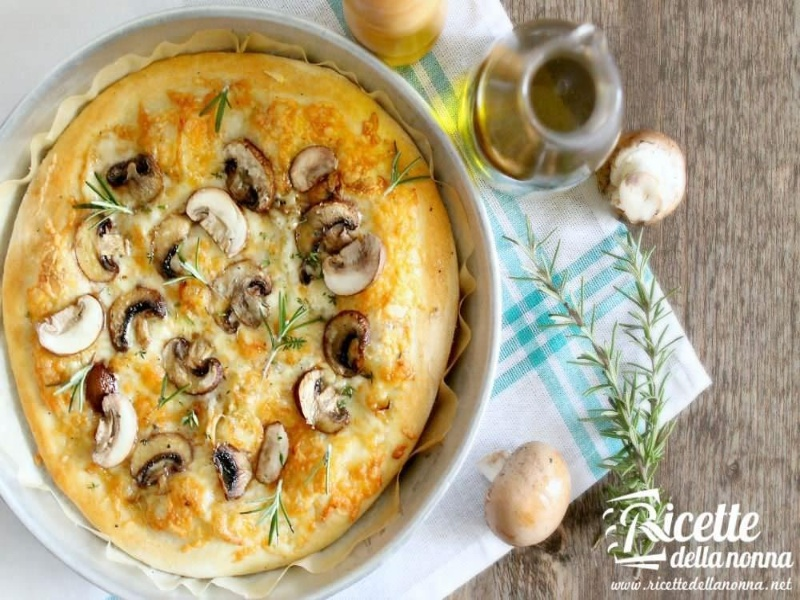champignon: (217, 135, 293, 216), (204, 256, 277, 337), (181, 181, 252, 263), (287, 366, 364, 441), (319, 225, 388, 305), (157, 333, 234, 401), (30, 291, 109, 356), (128, 432, 204, 494), (88, 389, 142, 475), (99, 151, 175, 211), (321, 304, 380, 380), (71, 211, 131, 285), (106, 285, 167, 356), (211, 437, 257, 503)
